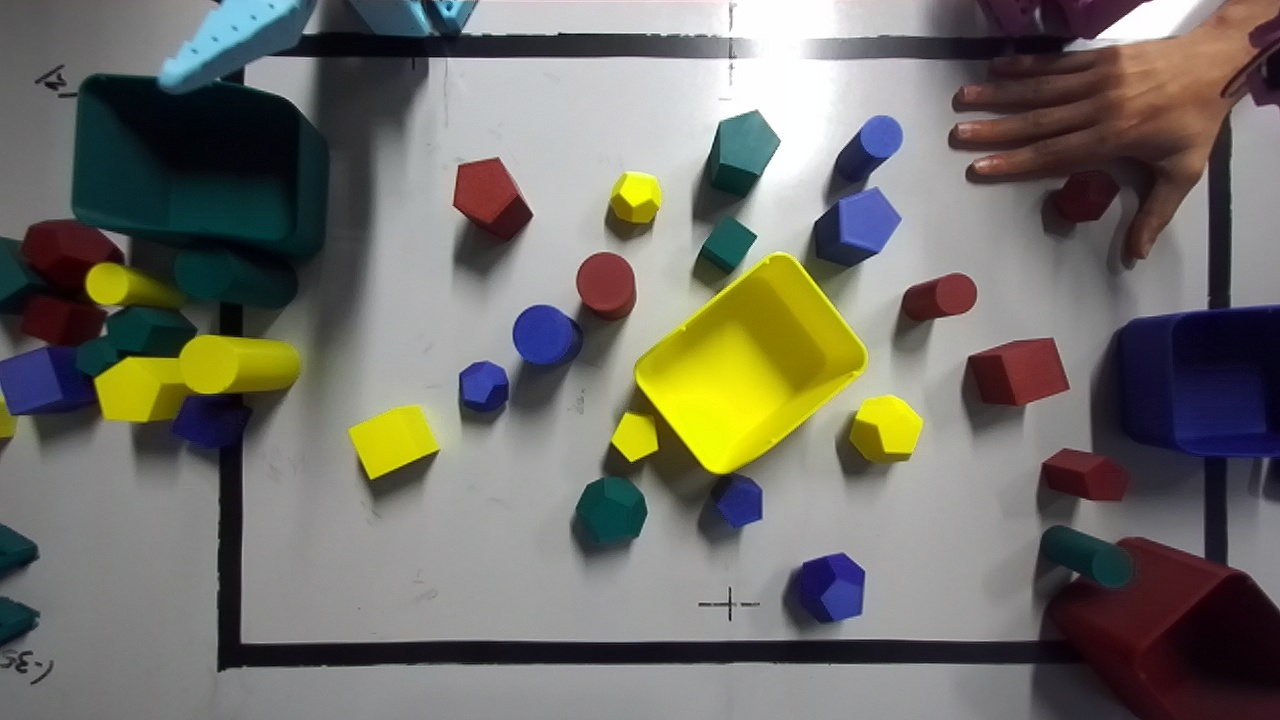bin: (635, 252, 866, 473), (1047, 537, 1279, 719), (1119, 307, 1279, 456)
cube: (968, 337, 1069, 405), (348, 405, 439, 479), (699, 216, 756, 272)
cylinder: (1040, 525, 1133, 587), (834, 115, 902, 182), (512, 305, 582, 364), (576, 252, 635, 319), (901, 273, 976, 320)
dodecahedron: (849, 395, 922, 462), (576, 477, 647, 544), (797, 553, 864, 622), (1051, 171, 1119, 222), (610, 171, 660, 223), (459, 361, 508, 411)
hexagonal: (813, 187, 900, 266), (453, 157, 532, 239), (706, 110, 780, 196), (1042, 448, 1131, 500), (711, 473, 762, 528), (611, 412, 658, 461)
